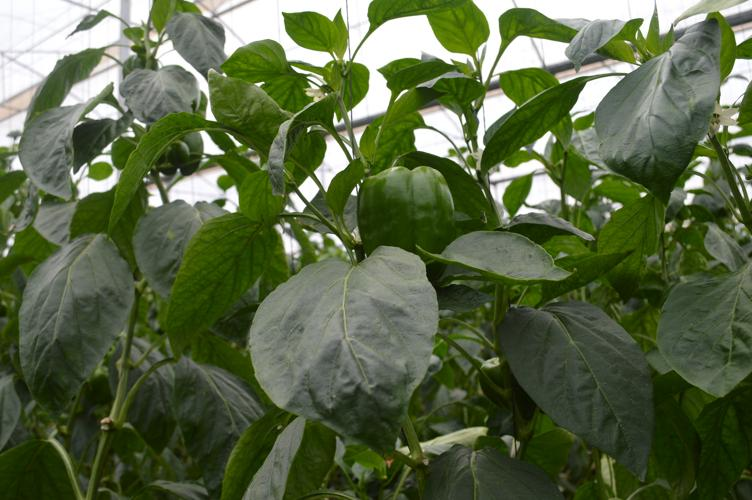BellPepper: (342, 158, 467, 280)
